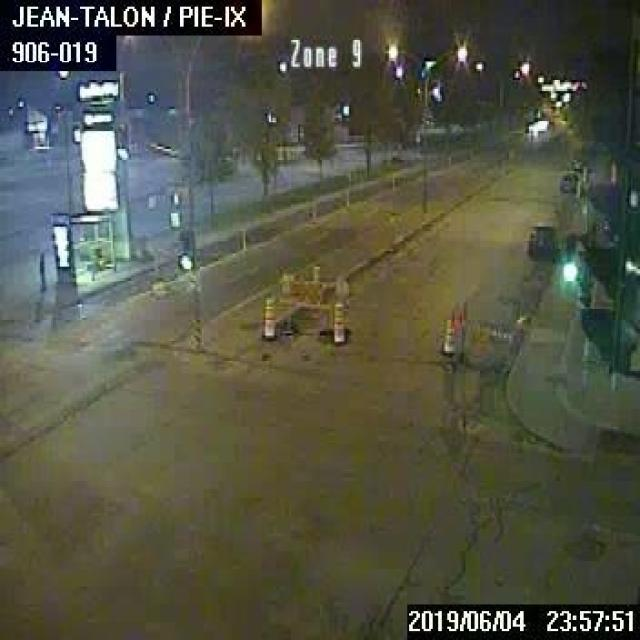construction: (275, 263, 352, 339), (450, 298, 520, 368), (331, 299, 344, 343), (262, 296, 274, 336), (441, 314, 452, 352)
pedestrian: (36, 250, 44, 288)
vehicle: (525, 224, 551, 253), (556, 174, 574, 194)
